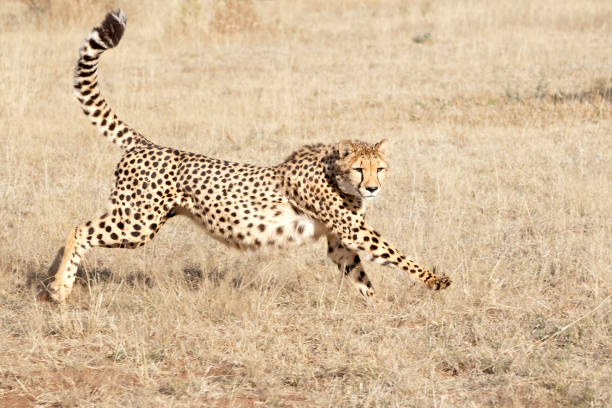cheetah: (327, 133, 396, 207)
